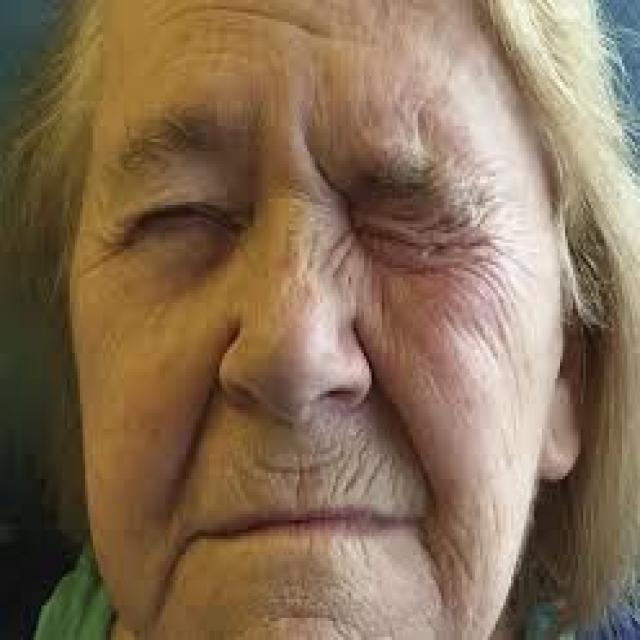stroke_face: (78, 10, 567, 640)
